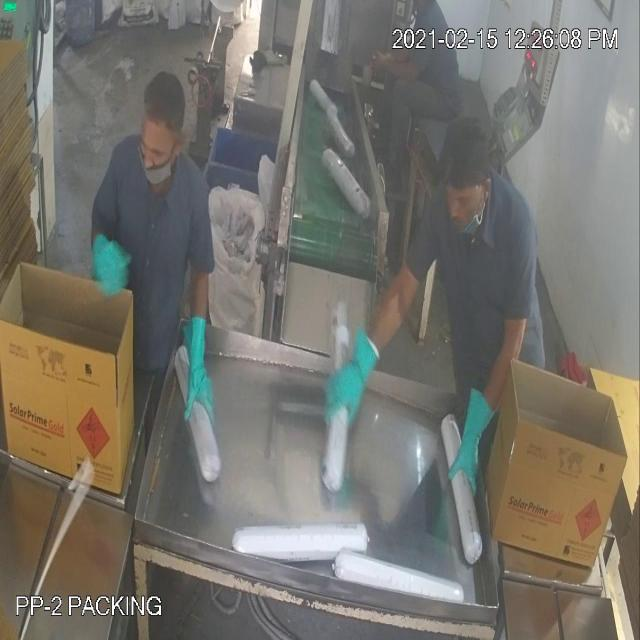gloves: (175, 289, 233, 442), (317, 337, 385, 444), (450, 378, 496, 508), (95, 226, 135, 312)
no-gloves: (366, 46, 416, 88)
